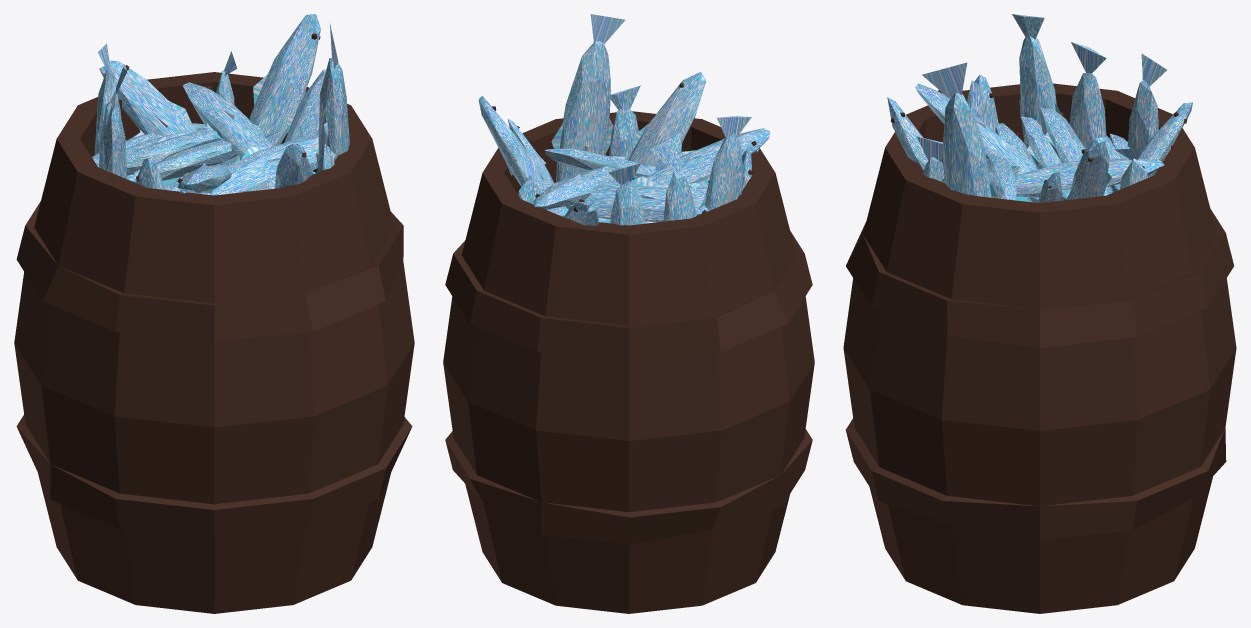
File: Fish Barrel.fbx
3 views of the same model, side by side, from view 1: azimuth 30°, elevation 25°; view 2: azimuth 150°, elevation 25°; view 3: azimuth 270°, elevation 25° (orthographic). The views are drawn at different scales.
Visible parts, largest first — view 1: FishBarrelRim1; view 2: FishBarrelRim1; view 3: FishBarrelRim1.
Boxes of the visible parts, x1,y1,x2,y2 form: FishBarrelRim1: (14, 14, 414, 613); FishBarrelRim1: (443, 14, 814, 613); FishBarrelRim1: (843, 14, 1236, 613).
Bounding box in the file's own units: 23.46 × 34.48 × 23.46.
